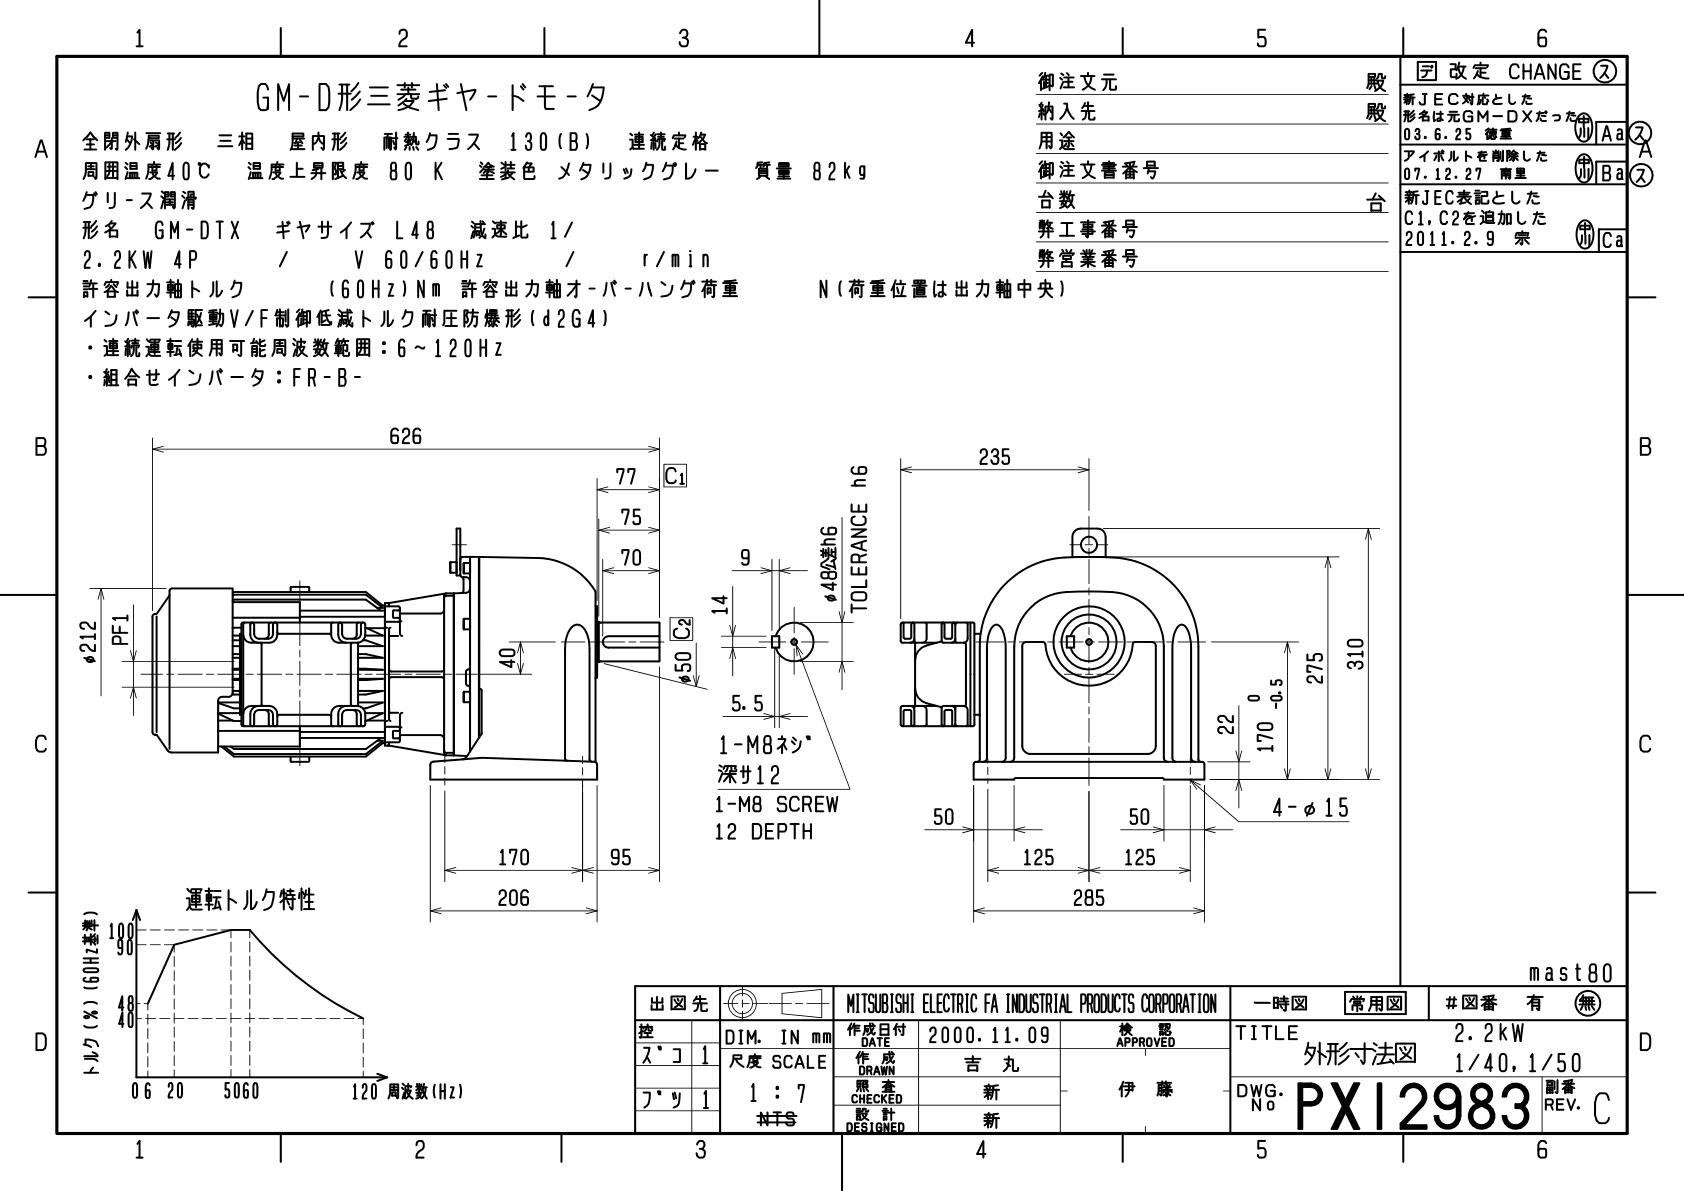GM_D_制御屋内_三相_脚: (1, 1, 1676, 1179)
